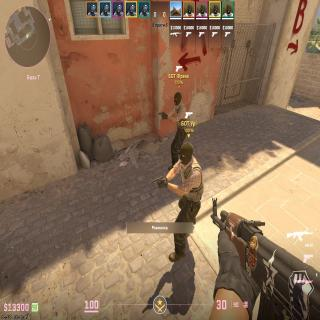T-Body: (175, 141, 203, 260), (173, 92, 188, 159)
T-Head: (180, 142, 194, 164), (174, 92, 182, 105)
